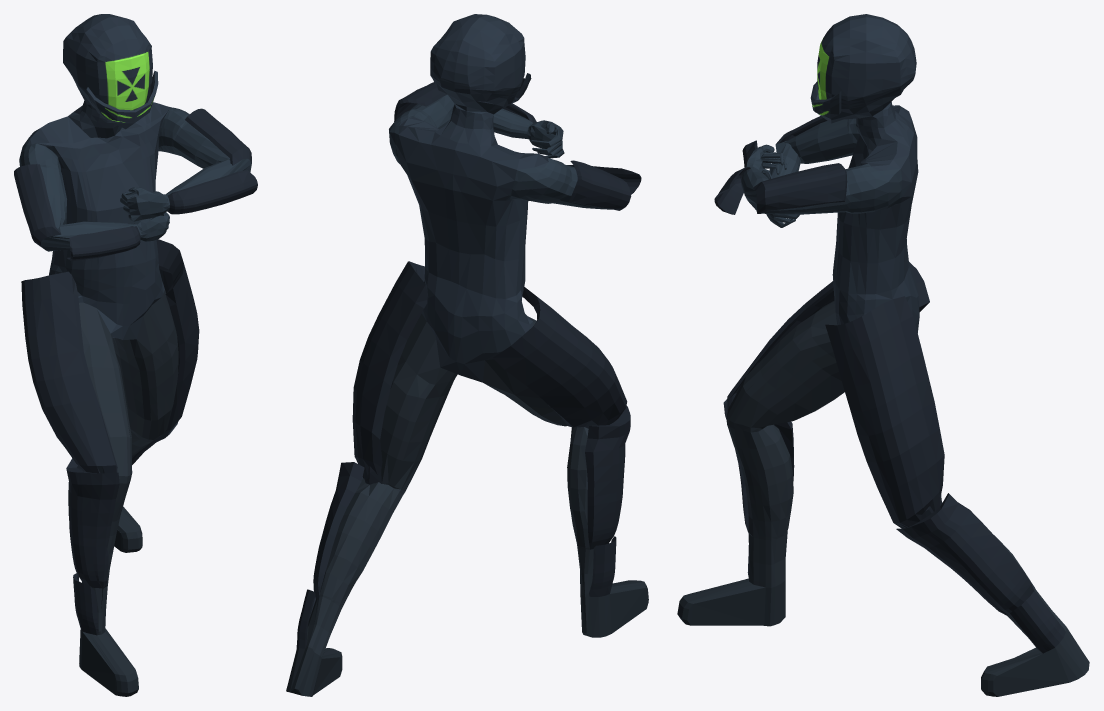
The model's file is Bastion_WB_000026.obj.
The picture shows the model from 3 angles, left to right: view 1: azimuth 30°, elevation 25°; view 2: azimuth 150°, elevation 25°; view 3: azimuth 270°, elevation 25°; orthographic projection. The views are drawn at different scales.
Visible parts, largest first — view 1: Cube.002; view 2: Cube.002; view 3: Cube.002.
Part boxes in pixels (x1,y1,x2,y2): Cube.002: (14,14,257,696); Cube.002: (286,14,648,696); Cube.002: (677,14,1089,696).
Bounding box in the file's own units: 1.33 × 3.59 × 2.11.
